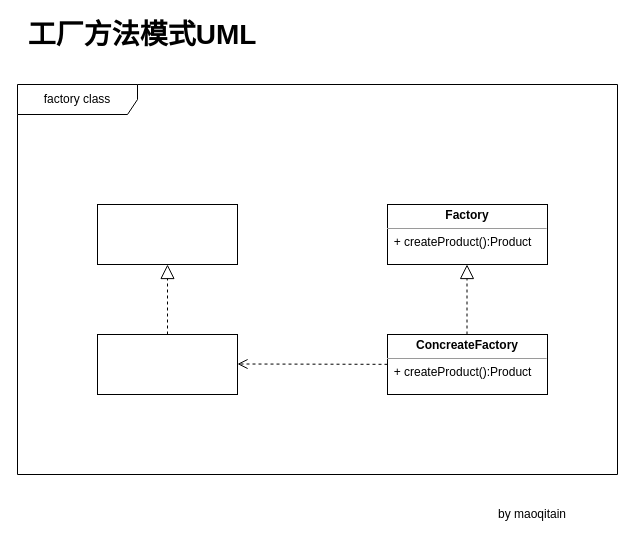
Image size: 635x541. Some labels were removed from this diagram. Here are the shapes that lost their labels. From the top down, the box of each, then its label:
(96, 204, 238, 264): Product + method():void
(96, 334, 238, 394): ConcreateProduct + method():void
